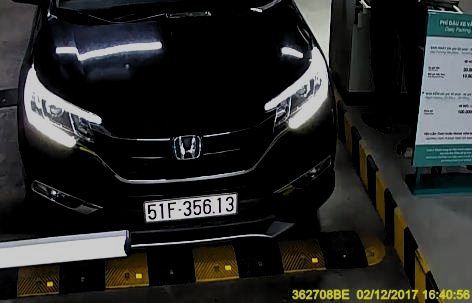plate: (142, 197, 239, 221)
